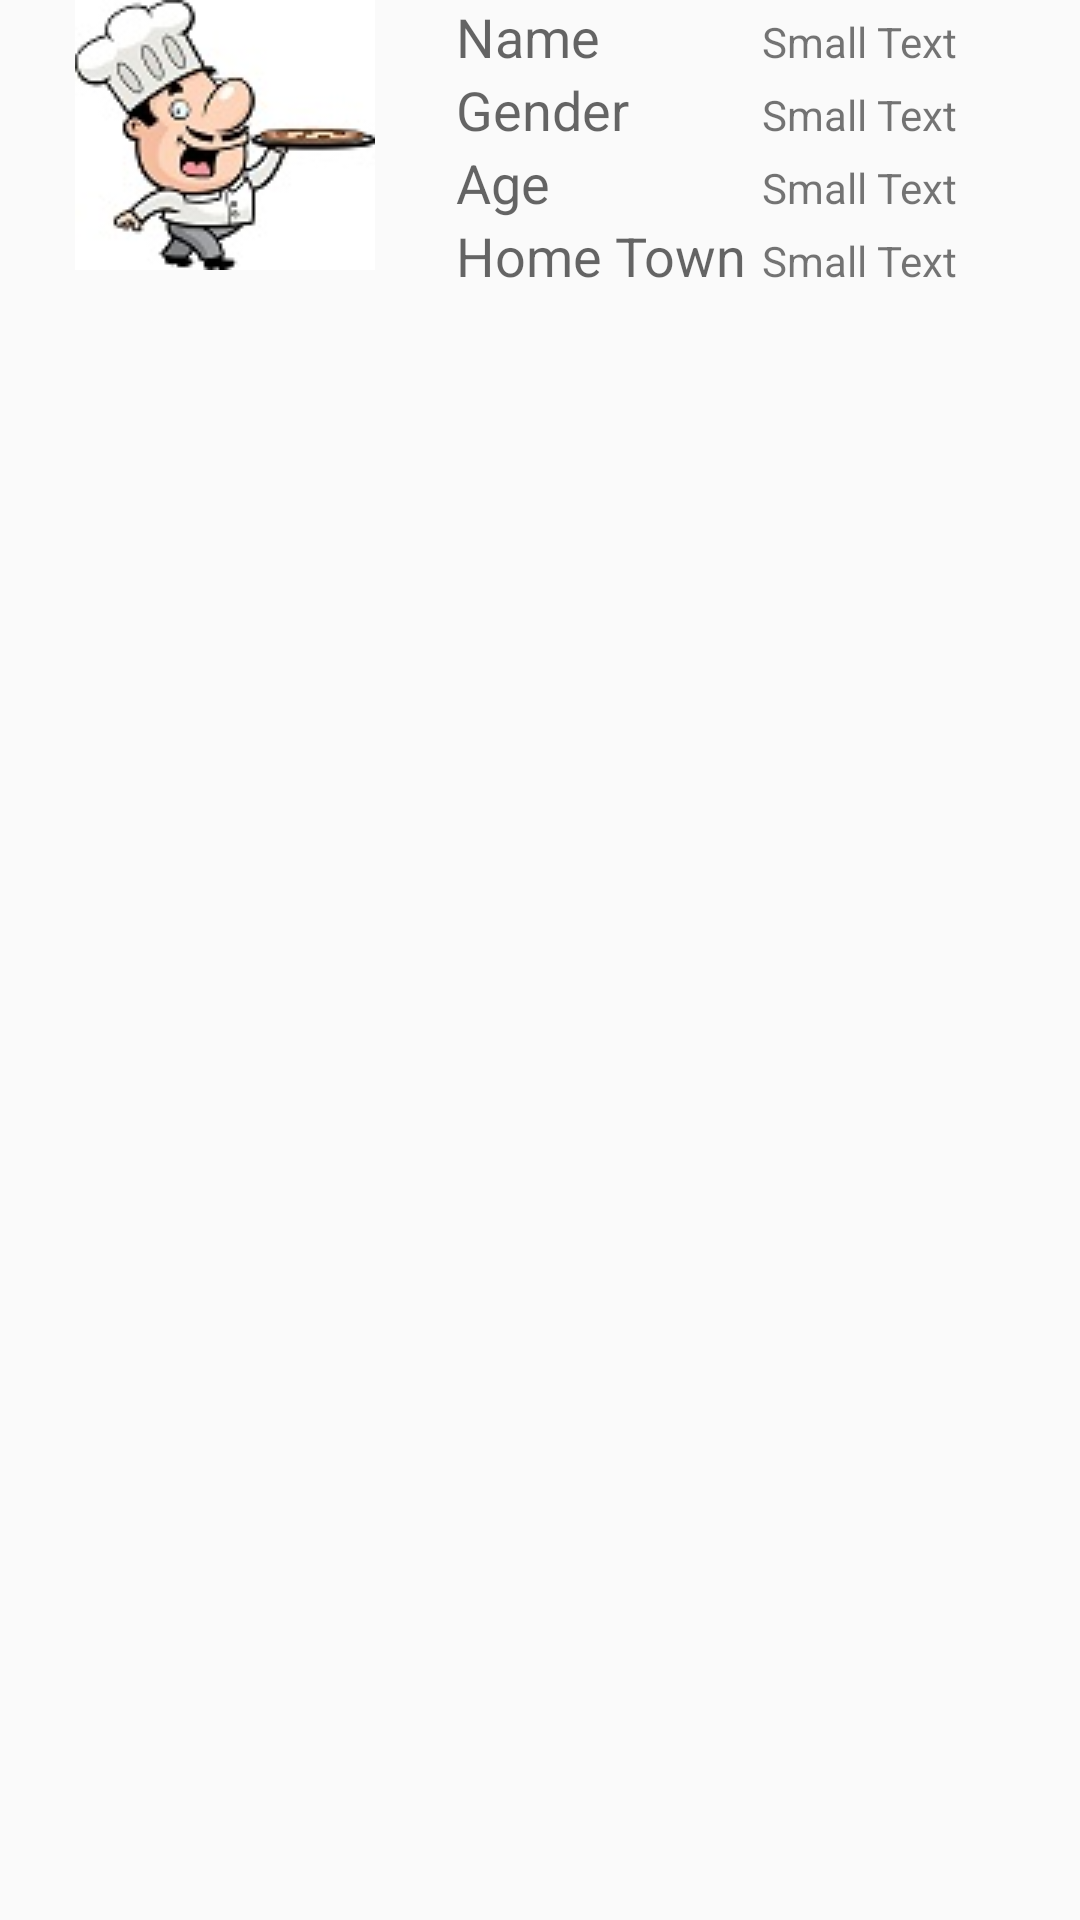

Point at icon controls on the screen. Image size 1080px x 1920px, points as [x,y].
cook: [225,135]
